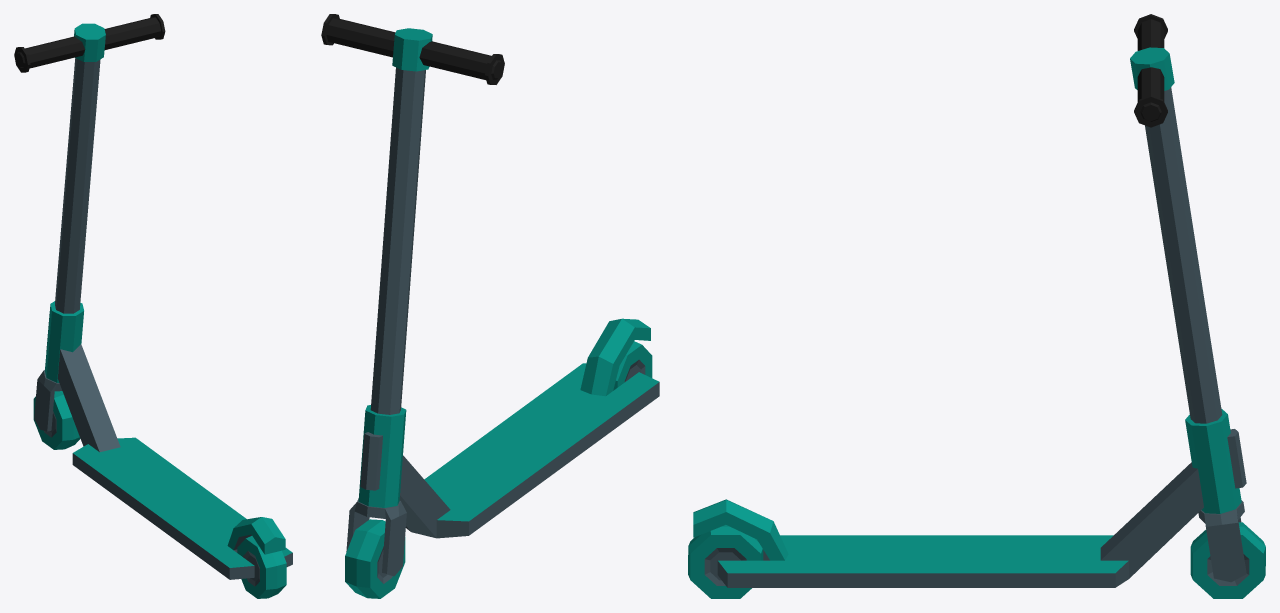
File: Scooter_01.obj
The picture shows the model from 3 angles, left to right: view 1: azimuth 30°, elevation 25°; view 2: azimuth 150°, elevation 25°; view 3: azimuth 270°, elevation 25°; orthographic projection. The views are drawn at different scales.
Visible parts, largest first — view 1: Scooter_Circle.002; view 2: Scooter_Circle.002; view 3: Scooter_Circle.002.
Part boxes in pixels (x1=…): Scooter_Circle.002: x1=14, y1=14, x2=292, y2=598; Scooter_Circle.002: x1=321, y1=14, x2=659, y2=598; Scooter_Circle.002: x1=688, y1=14, x2=1265, y2=598.
Size of the model in its own units: 4.41 by 13.2 by 12.76.
